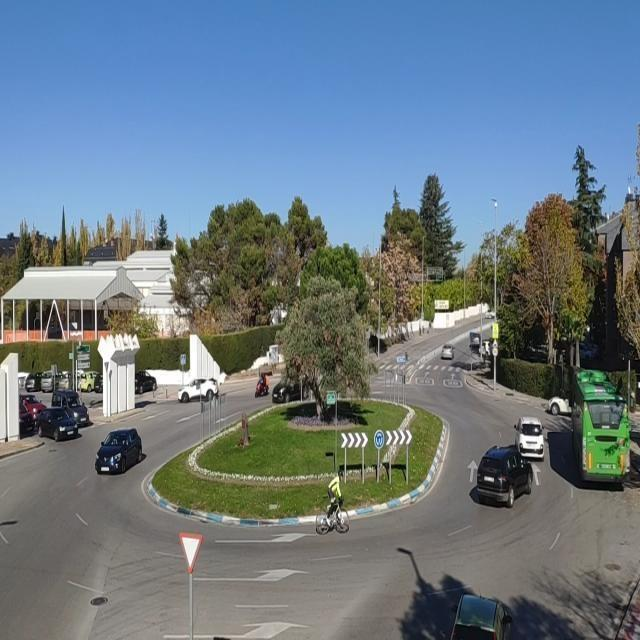Bus: (571, 369, 632, 485)
Car: (476, 445, 533, 508), (448, 593, 514, 640), (94, 428, 142, 475), (52, 391, 91, 428), (36, 408, 79, 441), (515, 417, 544, 459), (178, 378, 218, 403), (272, 379, 307, 404), (17, 396, 45, 422), (18, 399, 36, 434), (40, 371, 68, 393), (548, 392, 573, 416), (134, 371, 158, 394), (78, 371, 100, 393), (25, 372, 48, 392), (56, 371, 80, 390), (580, 342, 600, 361), (479, 340, 492, 356), (469, 332, 481, 349), (94, 374, 104, 394), (441, 345, 454, 359)
Cycle: (316, 494, 351, 534), (254, 380, 268, 398)
